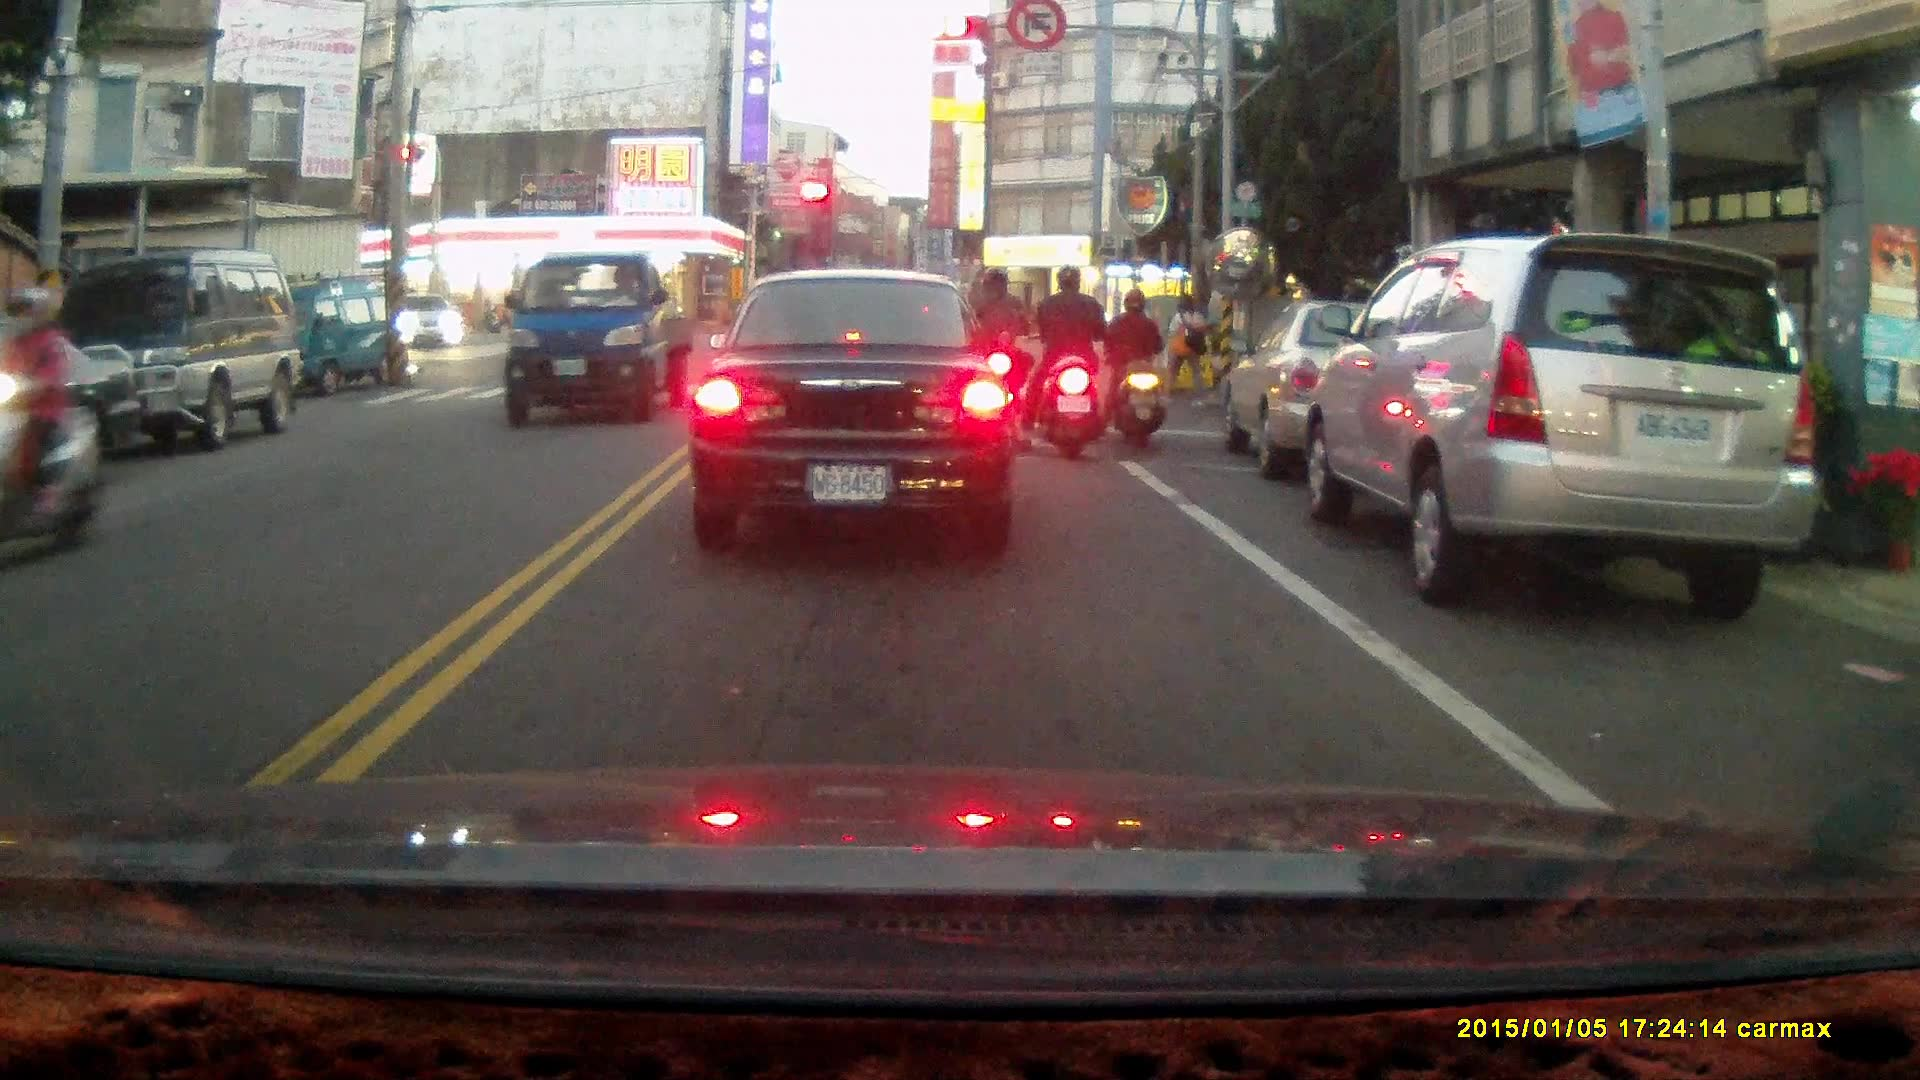pedestrian: (1160, 290, 1214, 411)
rider: (0, 281, 103, 566), (1023, 263, 1116, 459), (962, 266, 1031, 440), (1103, 285, 1169, 448)
vehicle: (1309, 227, 1828, 613), (690, 267, 1022, 549), (47, 242, 301, 451), (1226, 300, 1485, 486), (507, 252, 694, 417), (265, 271, 419, 402)
